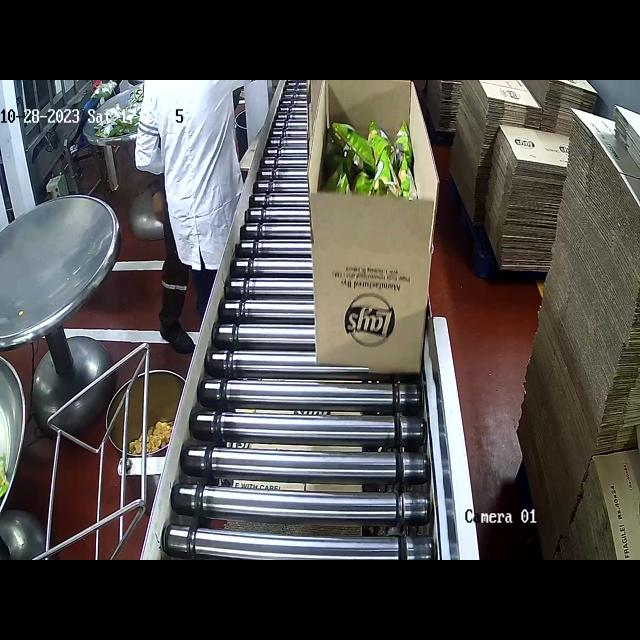yogurt: (327, 108, 413, 204)
